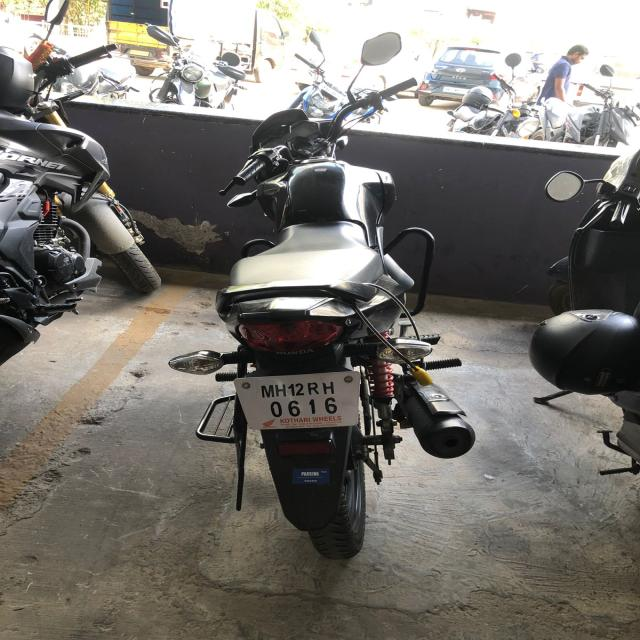number plate: (233, 370, 361, 430)
